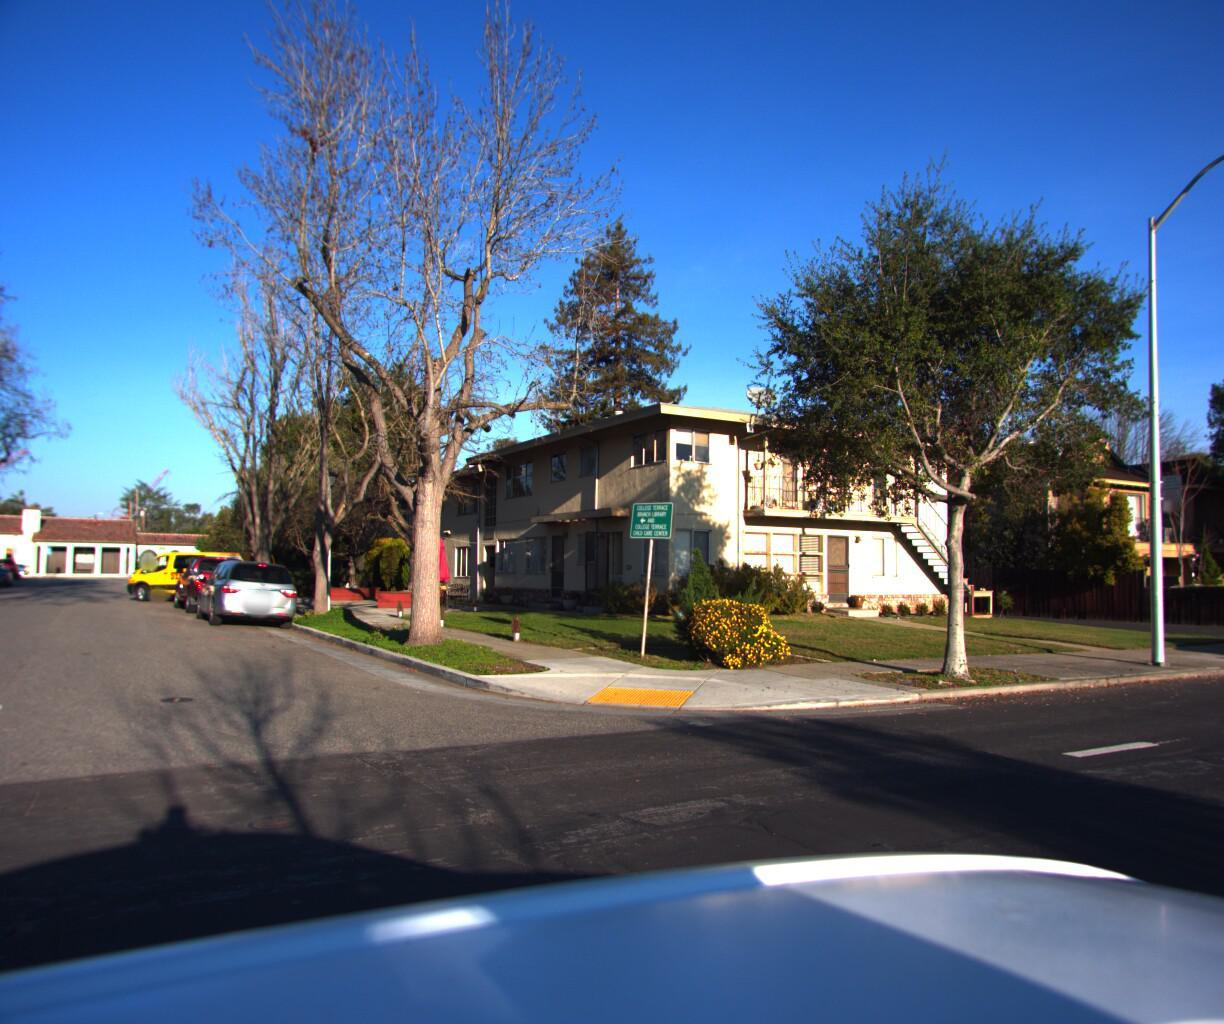car: (116, 545, 279, 600), (191, 553, 313, 626), (167, 548, 272, 614)
